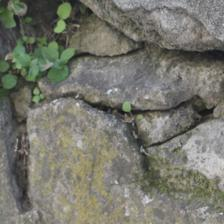Crack: (65, 50, 145, 213), (22, 94, 198, 146), (56, 4, 85, 45)
